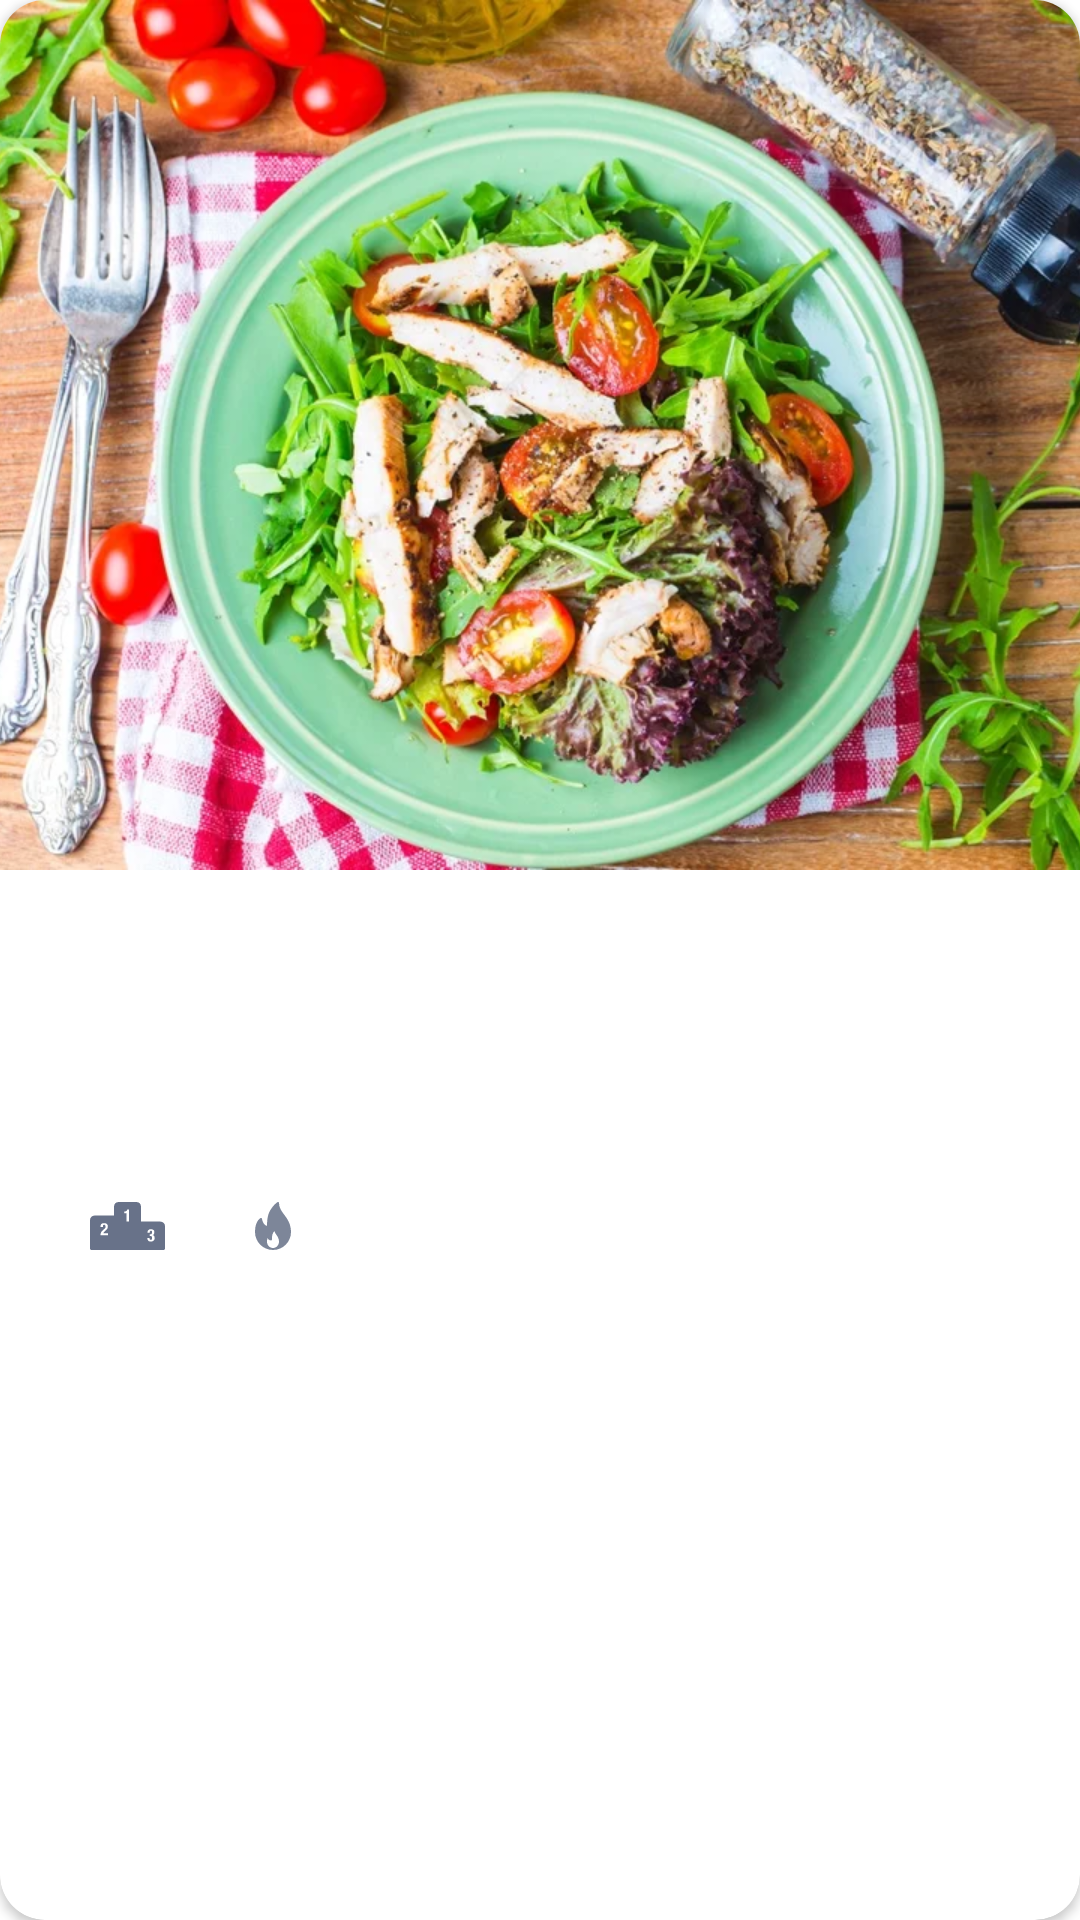

Screen size 1080px×1920px. Icon name, then its center in pixels as (x,y):
calories: (273,1226)
ranking: (127,1226)
